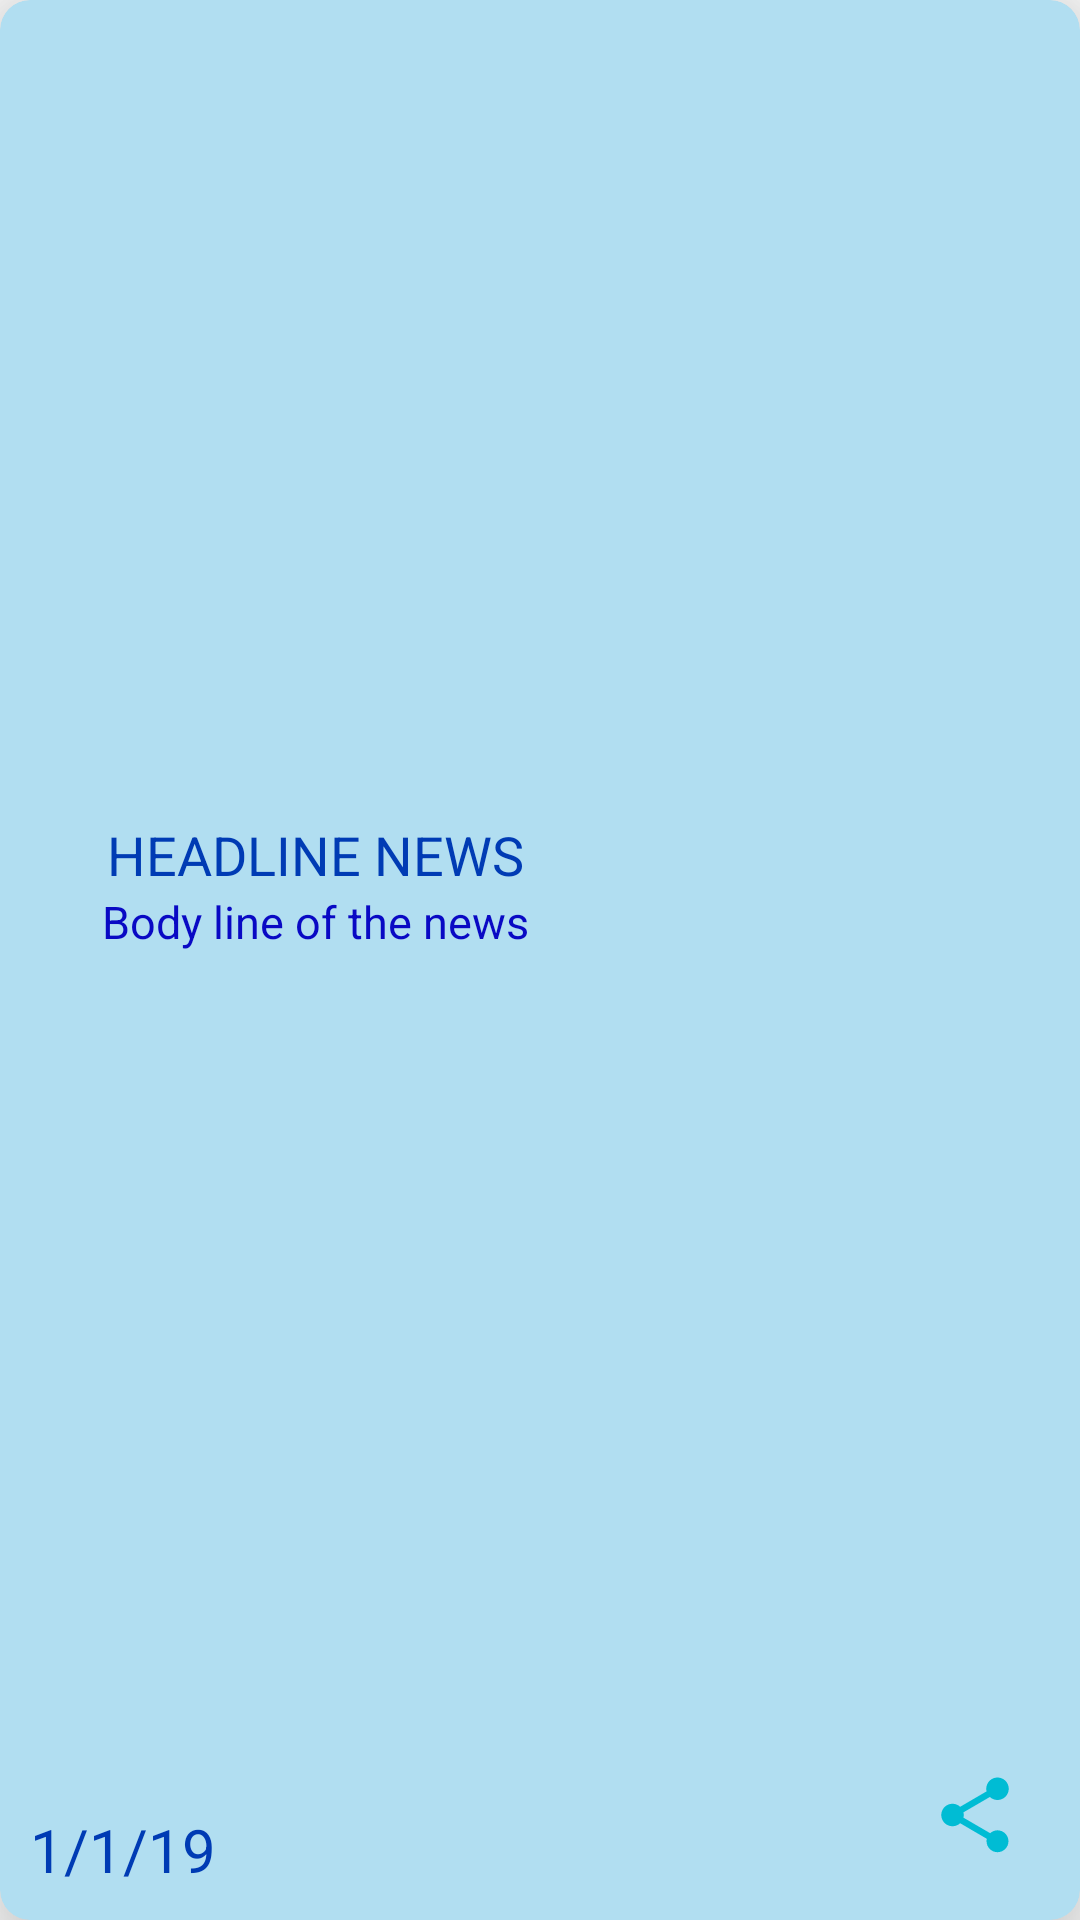

Locate icon controls on the screen. Image size 1080px×1920px, boxes as box(x1, y1, x2, y2).
share: box(941, 1777, 1009, 1853)
